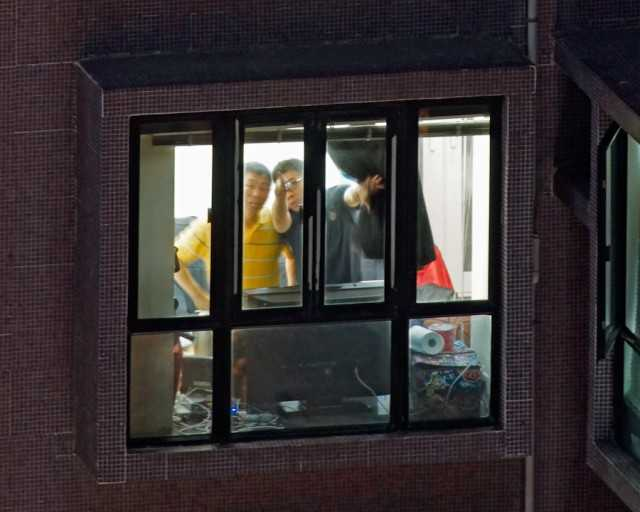face: (242, 171, 269, 211), (274, 170, 303, 207)
specialarea: (250, 186, 263, 193), (285, 181, 294, 191)
